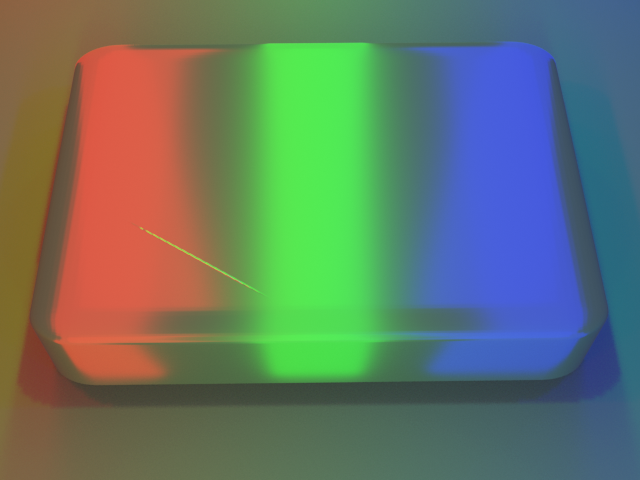scratch: (23, 123, 420, 258)
